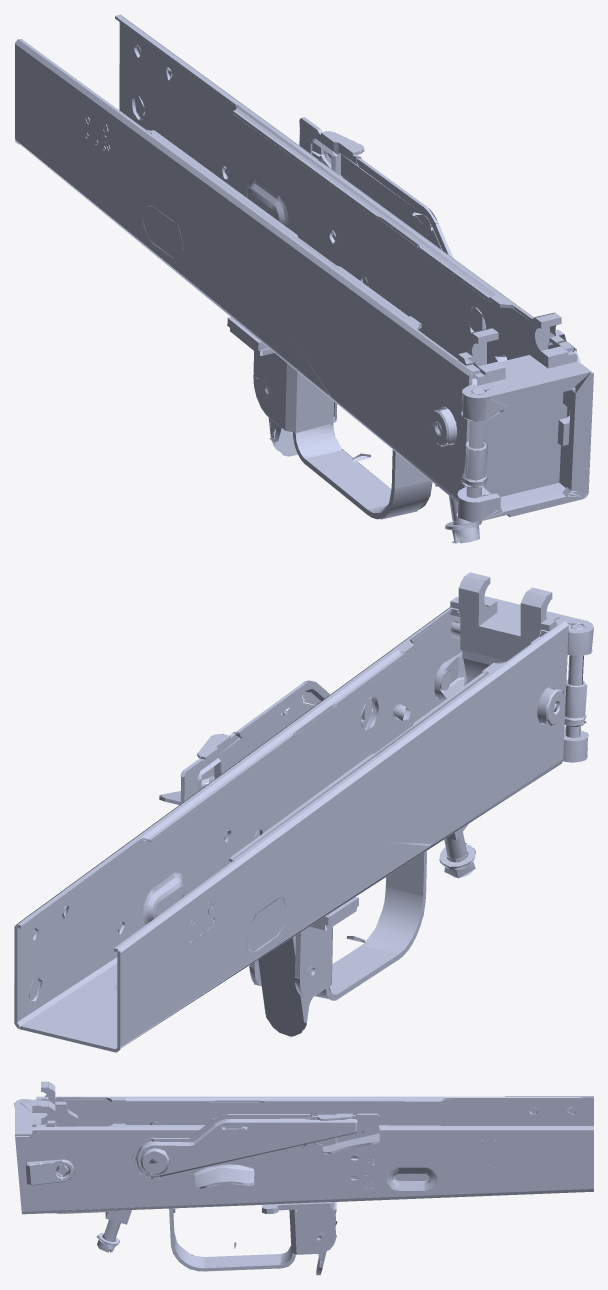
The model's file is AK12_Reciever.glb.
3 views of the same model, one above another, from view 1: azimuth 30°, elevation 25°; view 2: azimuth 150°, elevation 25°; view 3: azimuth 270°, elevation 25° (orthographic). The views are drawn at different scales.
Visible parts, largest first — view 1: AK12_Reciever; view 2: AK12_Reciever; view 3: AK12_Reciever.
Boxes of the visible parts, left/top/right/bottom form: AK12_Reciever: left=15, top=14, right=593, bottom=543; AK12_Reciever: left=14, top=572, right=593, bottom=1052; AK12_Reciever: left=14, top=1081, right=593, bottom=1275.
Bounding box in the file's own units: 0.0568 × 0.0895 × 0.2596.
